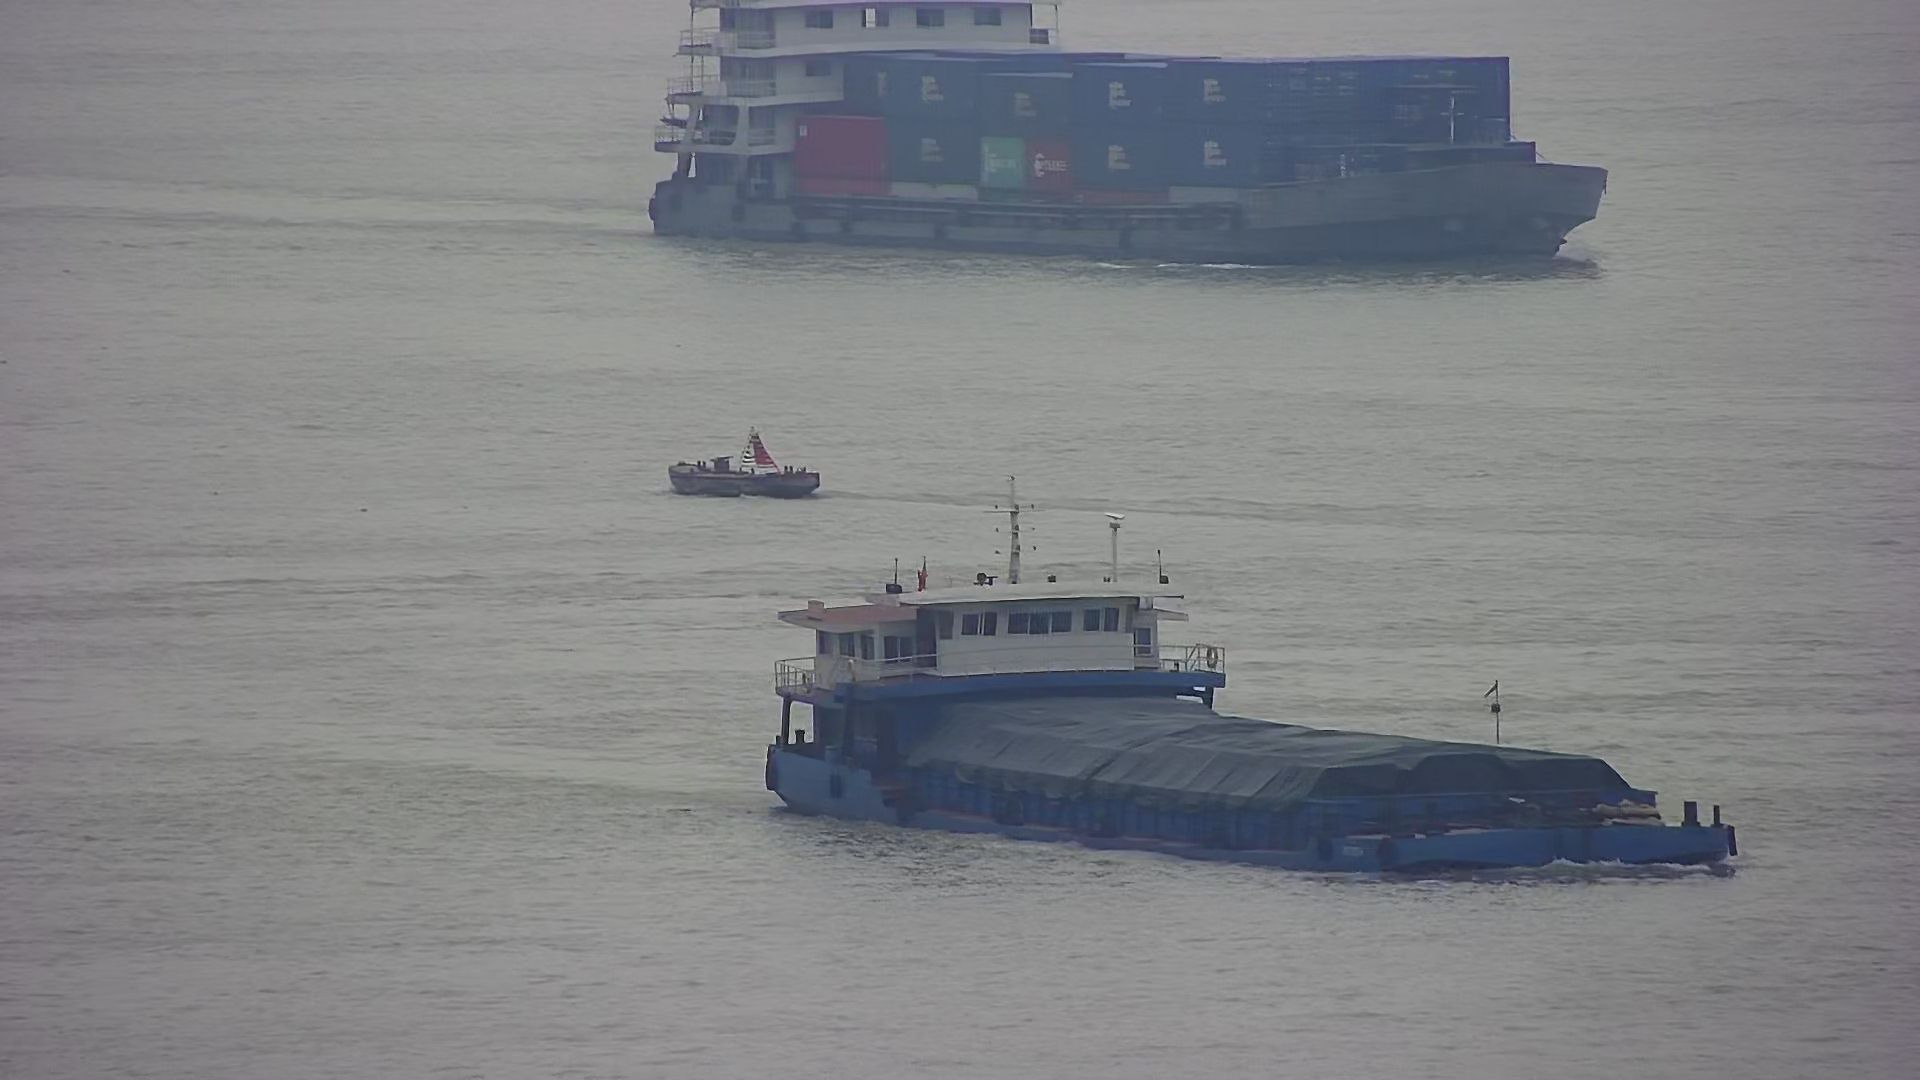boat: (663, 426, 822, 502)
ship: (767, 481, 1741, 874), (644, 1, 1605, 264)
